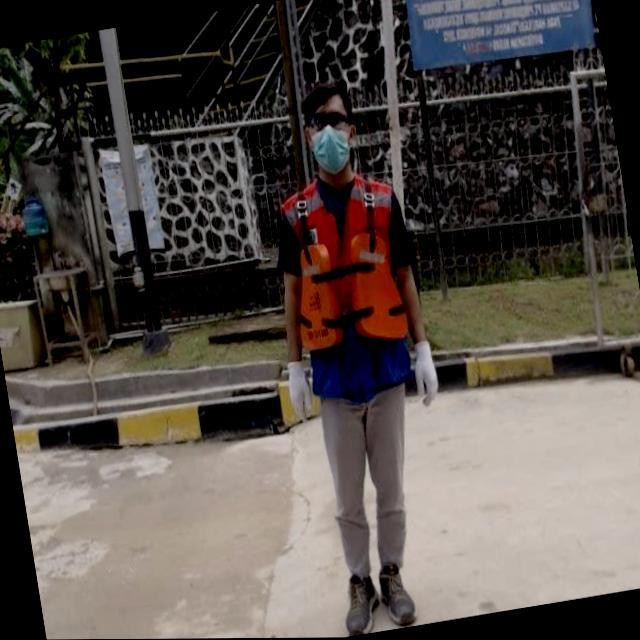goggles_on: (292, 106, 363, 147)
